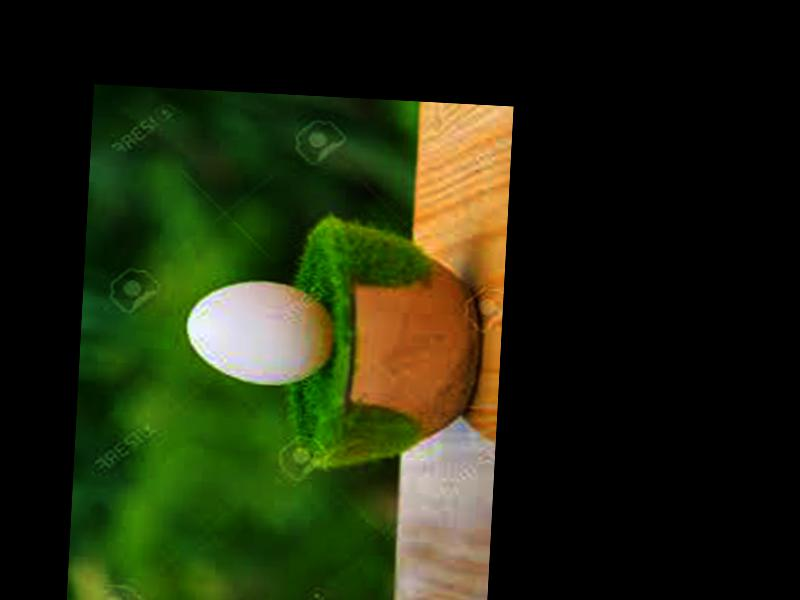Eggs: (186, 279, 336, 390)
